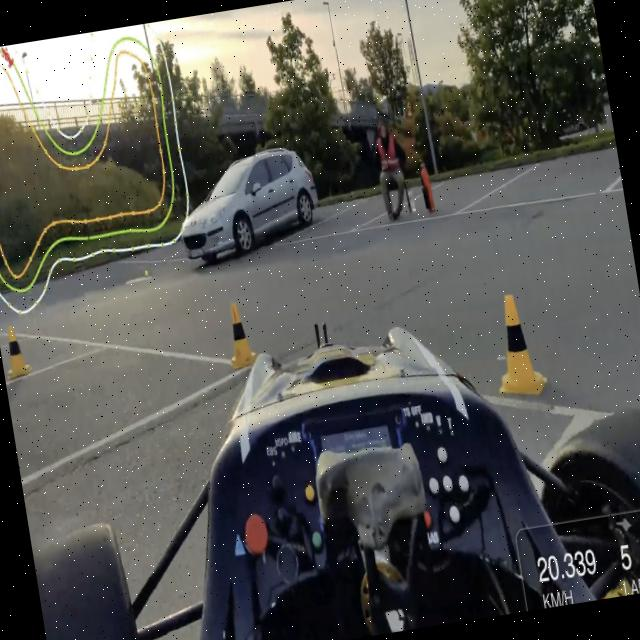yellow_cone: (489, 287, 548, 403), (216, 293, 256, 374), (0, 318, 32, 376)
